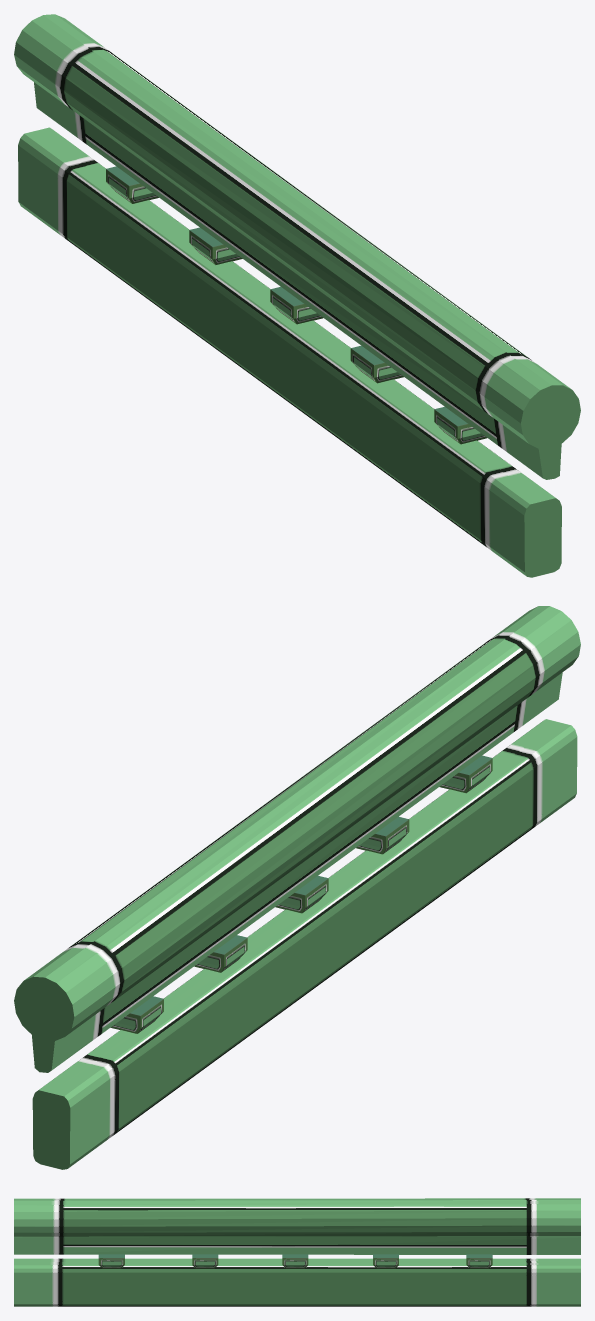
Rendered from SM_R_Dancheong_4.fbx.
3 views of the same model, one above another, from view 1: azimuth 30°, elevation 25°; view 2: azimuth 150°, elevation 25°; view 3: azimuth 270°, elevation 25° (orthographic). The views are drawn at different scales.
Visible parts, largest first — view 1: SM_R_Dancheong_4; view 2: SM_R_Dancheong_4; view 3: SM_R_Dancheong_4.
Part boxes in pixels (box(x1,y1,x2,y2)): SM_R_Dancheong_4: box(14, 14, 580, 577); SM_R_Dancheong_4: box(14, 606, 580, 1169); SM_R_Dancheong_4: box(14, 1198, 580, 1306).
Size of the model in its own units: 24.84 by 359 by 73.51.
Materials: 2 (2 with a texture image).
